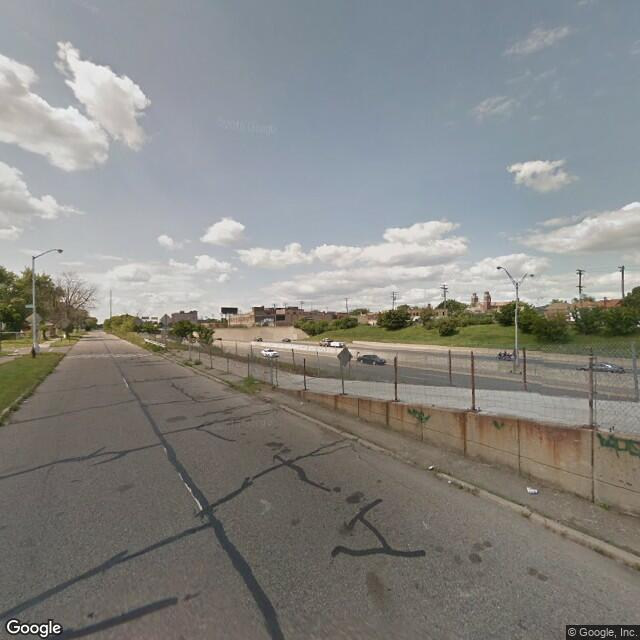litter: (522, 481, 543, 495), (422, 460, 440, 472)
